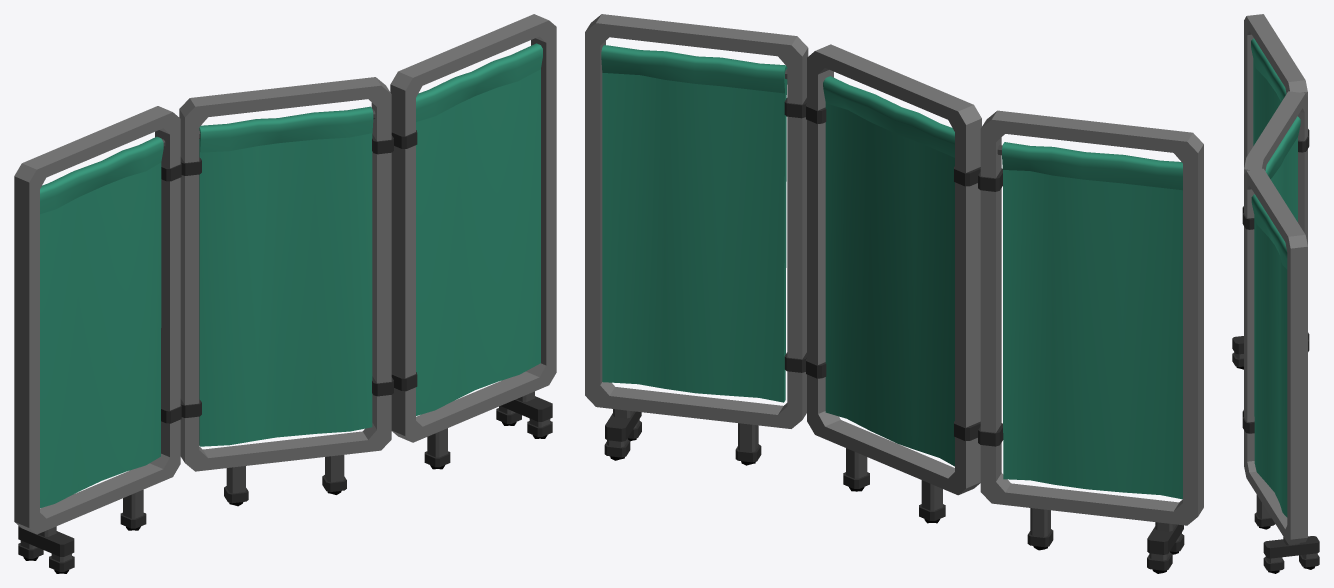
Rendered from Curtain Partition 01.fbx.
The picture shows the model from 3 angles, left to right: view 1: azimuth 30°, elevation 25°; view 2: azimuth 150°, elevation 25°; view 3: azimuth 270°, elevation 25°; orthographic projection. The views are drawn at different scales.
Parts seen in each view (by area): view 1: Curtain_Partition_01; view 2: Curtain_Partition_01; view 3: Curtain_Partition_01.
Part boxes in pixels (x1=…): Curtain_Partition_01: x1=14, y1=14, x2=556, y2=573; Curtain_Partition_01: x1=585, y1=14, x2=1203, y2=573; Curtain_Partition_01: x1=1232, y1=14, x2=1319, y2=573.
Size of the model in its own units: 303 by 211 by 48.7.
